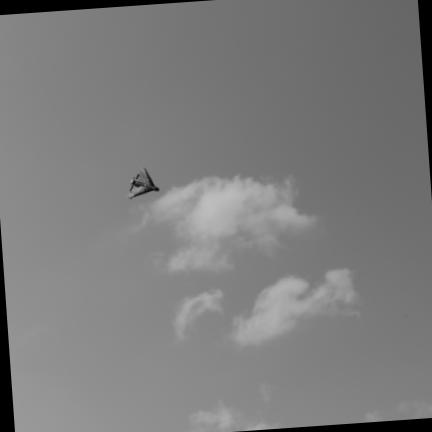Shahed: (127, 167, 158, 198)
